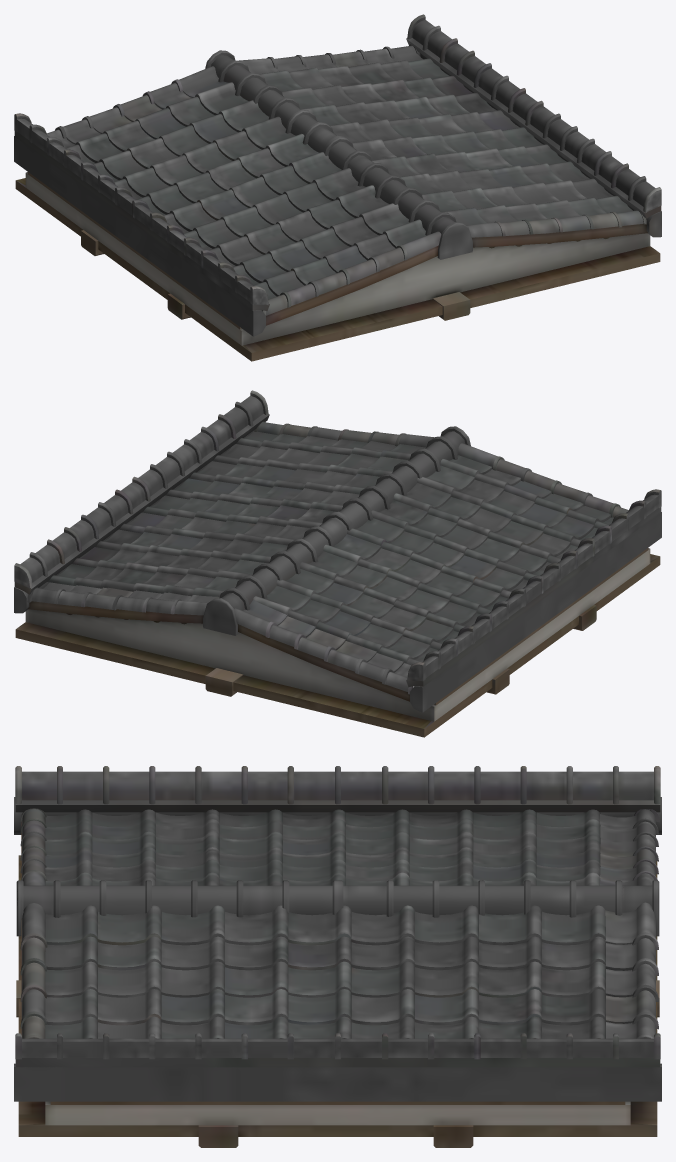
File: Architecture_JapaneseStyle_RoofB_dc2ac6.glb
3 views of the same model, one above another, from view 1: azimuth 30°, elevation 25°; view 2: azimuth 150°, elevation 25°; view 3: azimuth 270°, elevation 25° (orthographic). The views are drawn at different scales.
Bounding box in the file's own units: 4.05 × 0.8929 × 4.06.
Materials: 1 (1 with a texture image).
